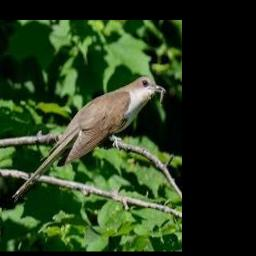Cuckoo: (12, 75, 165, 203)
